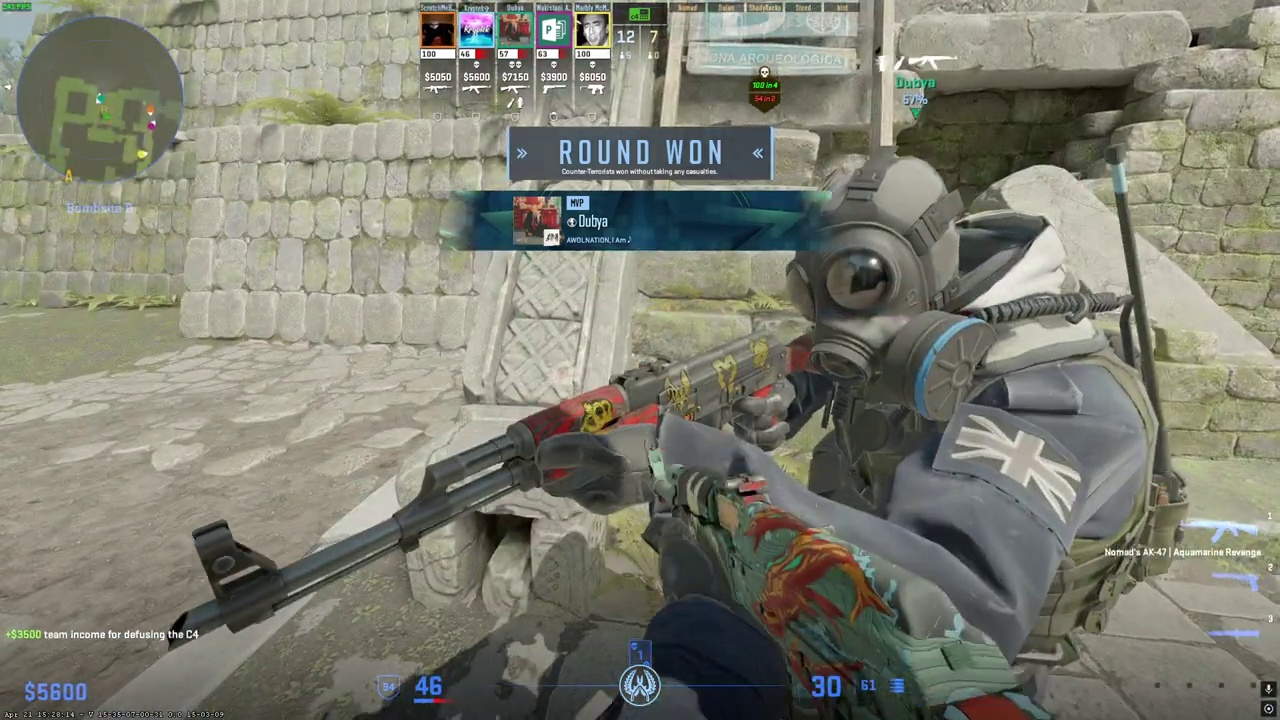CT: (766, 150, 1139, 676)
